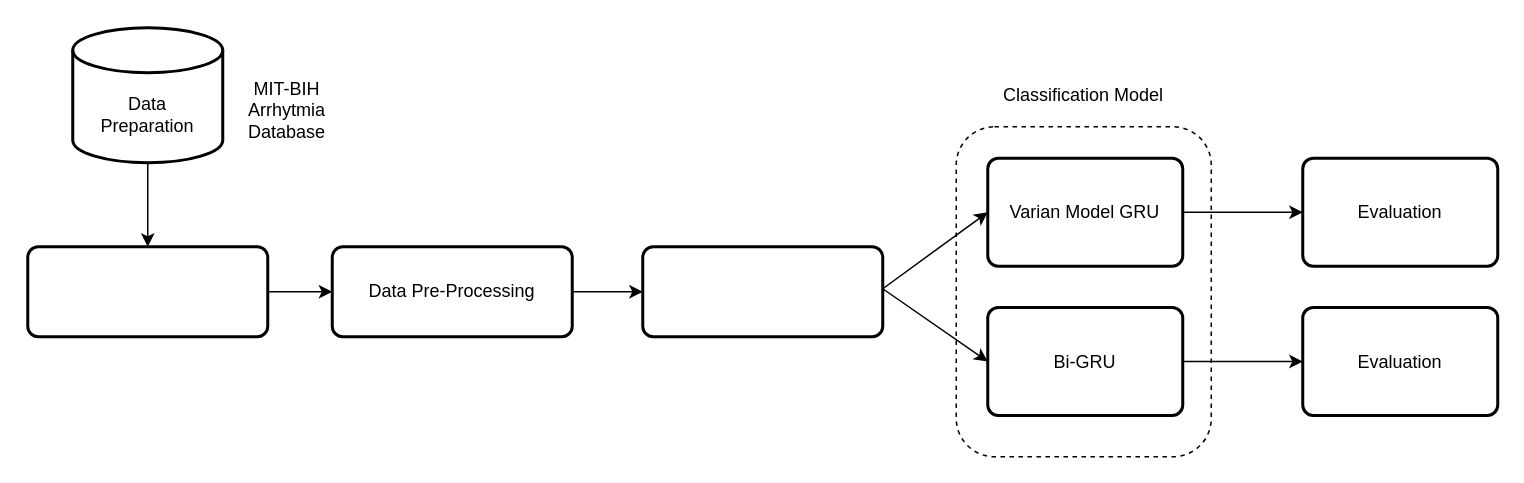
Some shapes in this 1524 by 483 pixel diagram are drawn without their labels. Each missing label, with the centre of its shape:
Exploratory Data Analysis (EDA): the point at 147,291
Sliding Window: the point at 762,291
